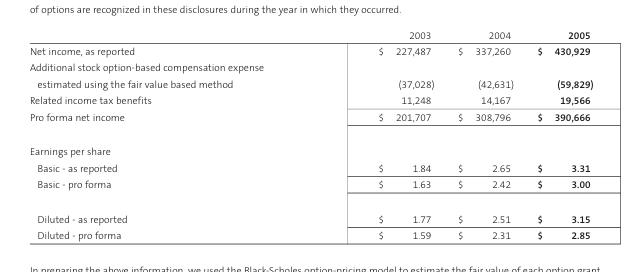table: (28, 28, 592, 241)
table column: (28, 28, 320, 241), (320, 28, 445, 241), (445, 28, 524, 241), (524, 28, 592, 241)
table column header: (28, 28, 592, 43)
table projected row header: (28, 134, 592, 159)
table row: (28, 59, 592, 92), (28, 108, 592, 134), (28, 201, 592, 227), (28, 134, 592, 159), (28, 176, 592, 201), (28, 159, 592, 176), (28, 43, 592, 59), (28, 92, 592, 108), (28, 28, 592, 43), (28, 227, 592, 241)
